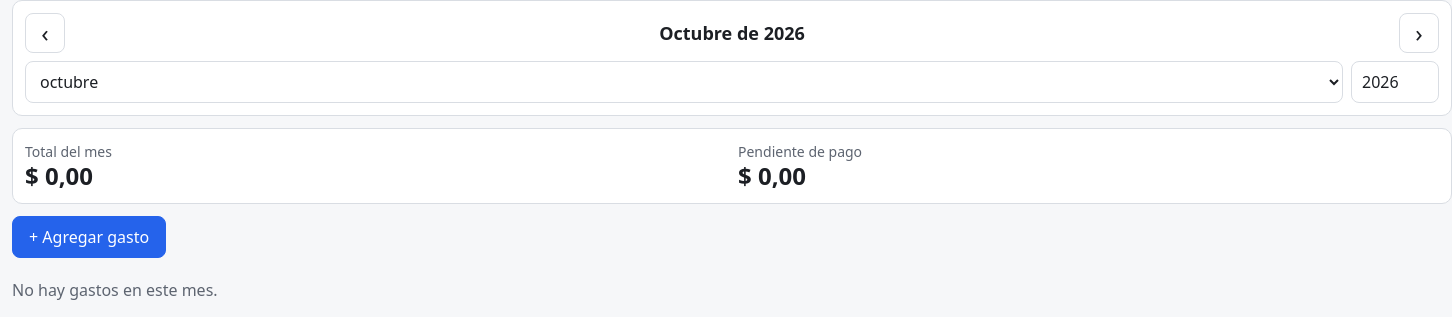
Test: ExpensesPage › salta a otro mes y año y vuelve al mes actual
Step 1. Select "marzo" in the dropdown named "Mes" → (684, 82), box [25,61,1343,103]
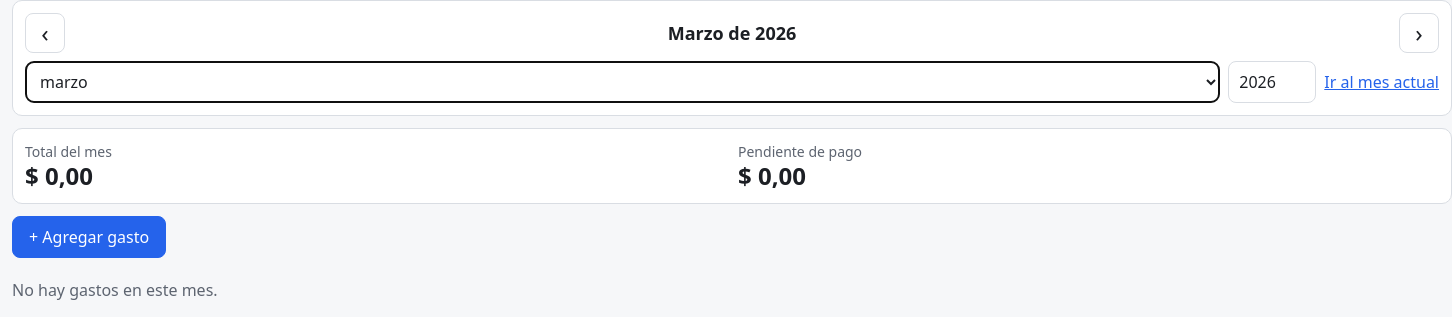
Step 2. Replace the text in the field named "Año" with "2020" → (1272, 82), box [1228,61,1316,103]
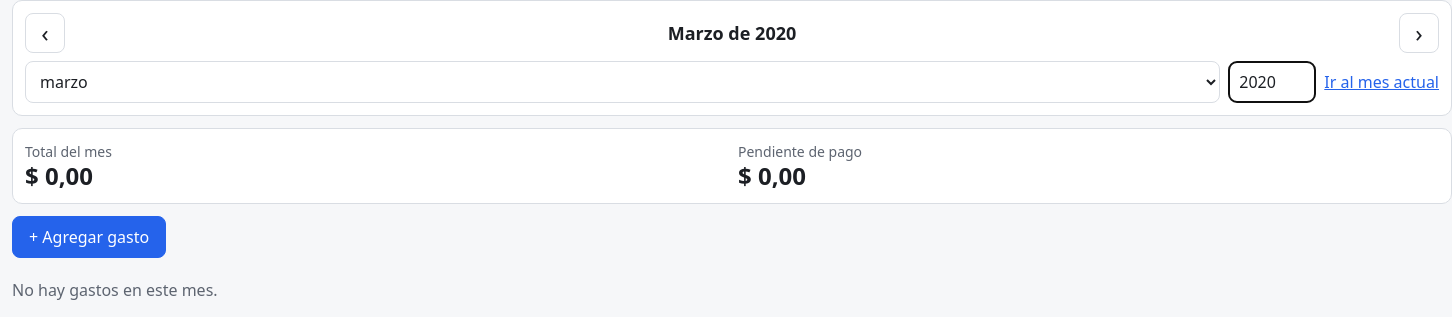
Result: the heading "marzo de 2020" is shown at [668,21,796,45]
Step 3. Click the button "Ir al mes actual" → (1382, 82), box [1324,70,1439,94]
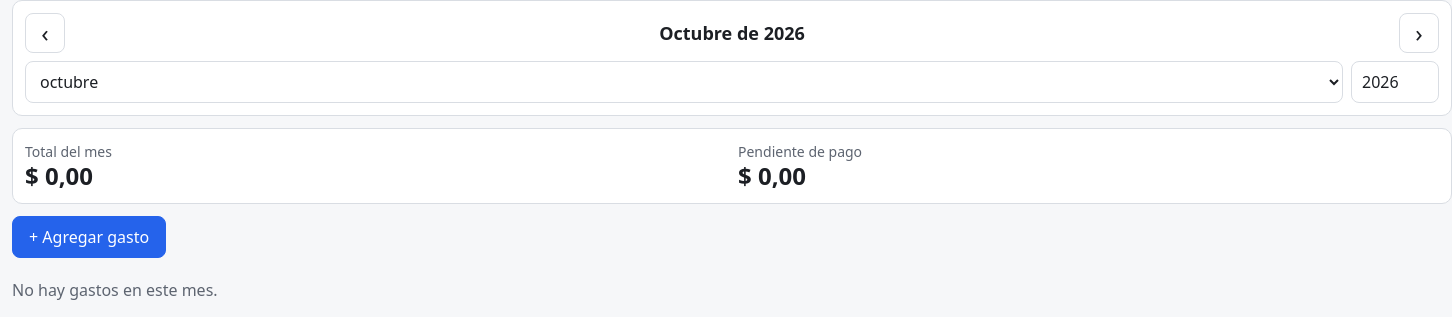
Result: the heading "octubre de 2026" is shown at [659,21,805,45]
Result: the field named "Año" holds "2026" at [1351,61,1439,103]
Result: the button "Ir al mes actual" is gone
